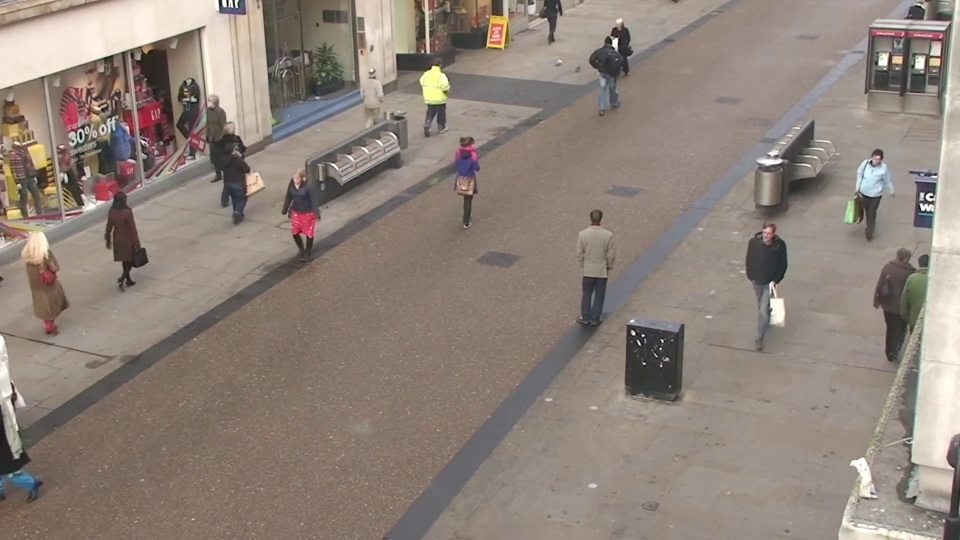pedestrian: (892, 242, 949, 374), (875, 236, 930, 366), (24, 220, 82, 340), (740, 221, 784, 345), (111, 181, 159, 291), (851, 147, 895, 253), (575, 202, 613, 322), (274, 171, 314, 280), (219, 132, 258, 231), (454, 128, 488, 227), (221, 111, 257, 204), (191, 94, 226, 182), (363, 62, 392, 142), (428, 51, 456, 128), (599, 29, 623, 101), (603, 16, 627, 84)
